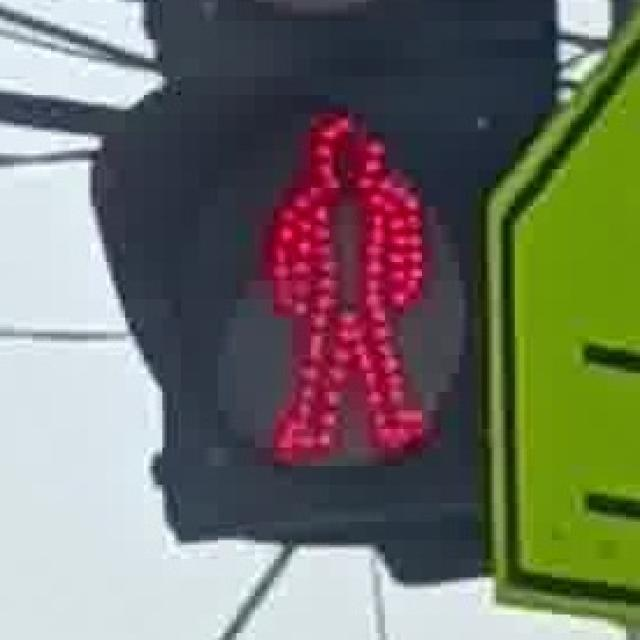red_light: (244, 90, 446, 464)
